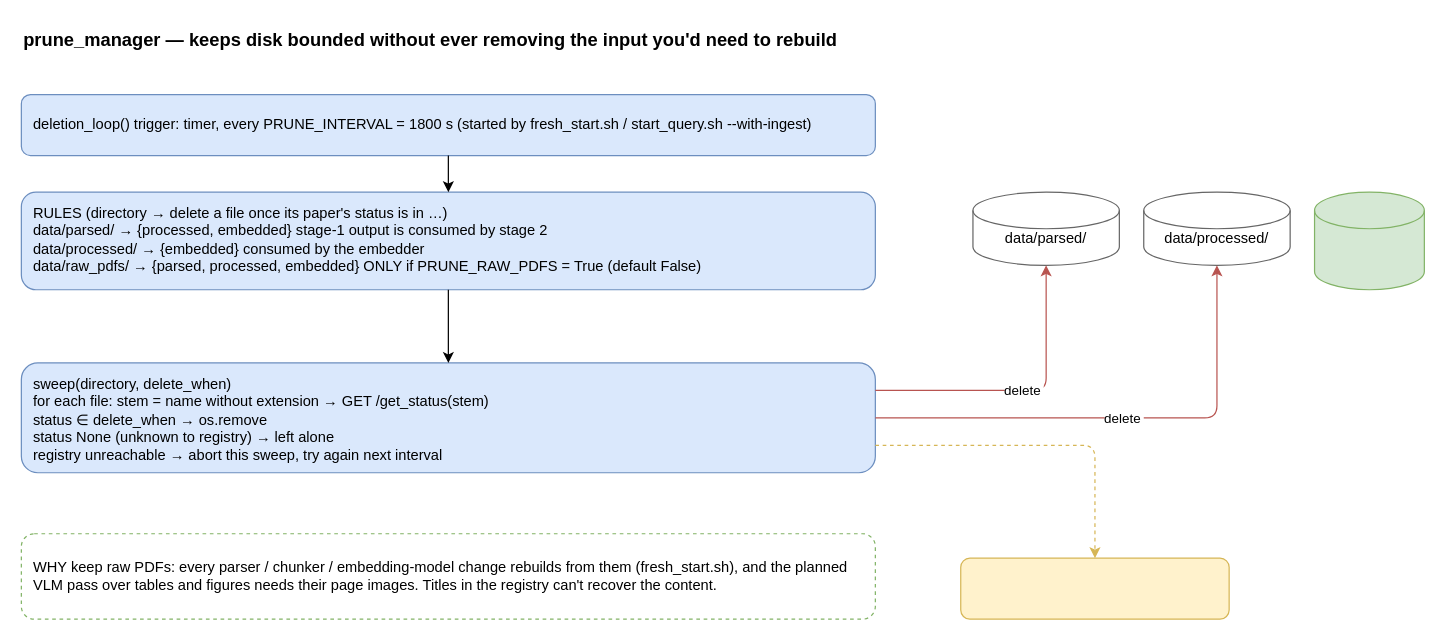
This 1446x641 diagram has some shape labels left out. Each missing label, with the centre of its shape:
"data/raw_pdfs/ (kept)" goes at [1368,240].
"registry :4000 get_status" goes at [1094,588].
